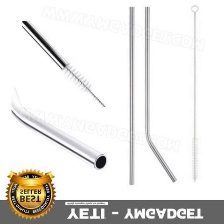drinking_straw: (141, 4, 179, 185), (126, 3, 136, 187)
